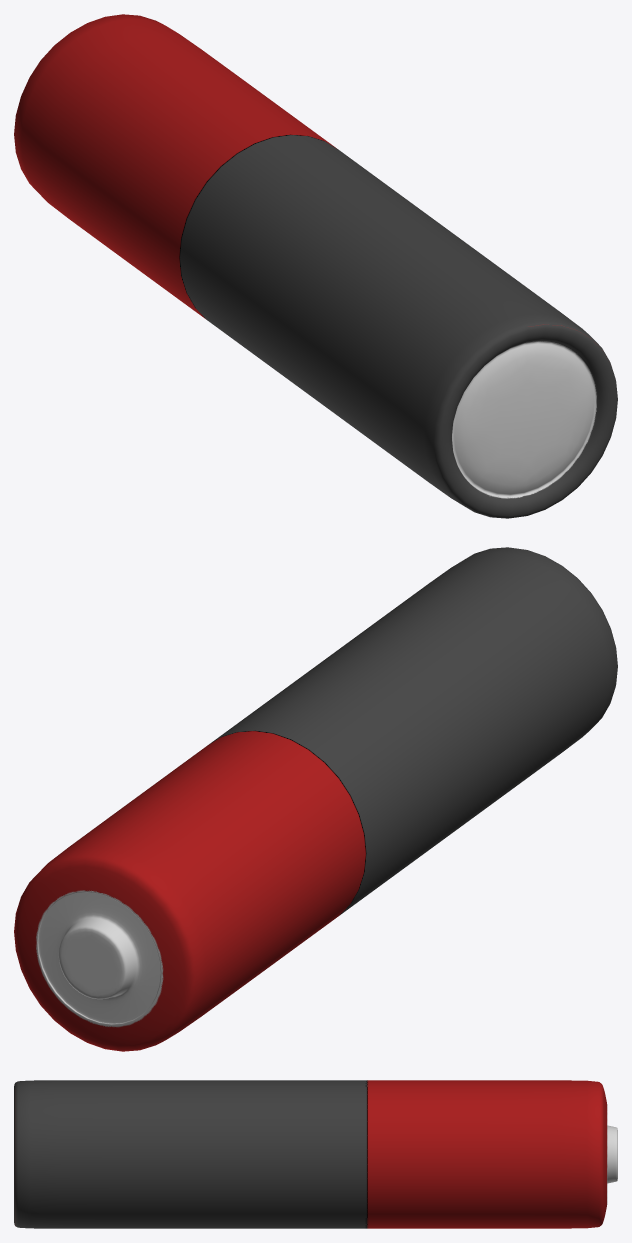
File: battery.glb
3 views of the same model, one above another, from view 1: azimuth 30°, elevation 25°; view 2: azimuth 150°, elevation 25°; view 3: azimuth 270°, elevation 25° (orthographic). The views are drawn at different scales.
Parts seen in each view (by area): view 1: Battery; view 2: Battery; view 3: Battery.
Boxes of the visible parts, box(x1,y1,x2,y2) form: Battery: box(14, 14, 617, 518); Battery: box(14, 547, 617, 1051); Battery: box(14, 1080, 617, 1228).
Size of the model in its own units: 0.0126 by 0.0126 by 0.0513.
2 materials, 2 textured.
